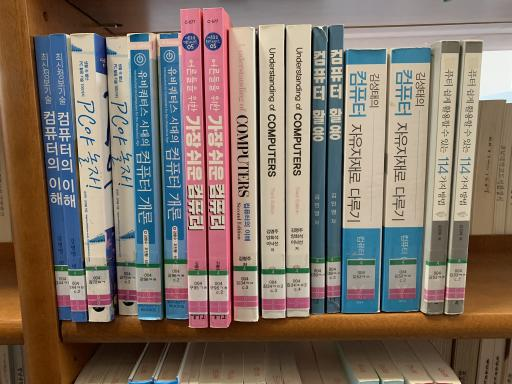book-spine: (384, 48, 431, 312), (341, 49, 386, 314), (70, 33, 111, 322), (34, 35, 72, 321), (50, 34, 86, 321), (156, 32, 190, 321), (448, 41, 483, 314), (128, 33, 161, 320), (426, 41, 460, 314), (180, 8, 208, 329), (106, 36, 138, 314), (228, 27, 258, 322), (203, 8, 228, 328), (259, 25, 285, 318), (287, 24, 311, 318), (311, 26, 328, 315), (326, 26, 343, 314)
